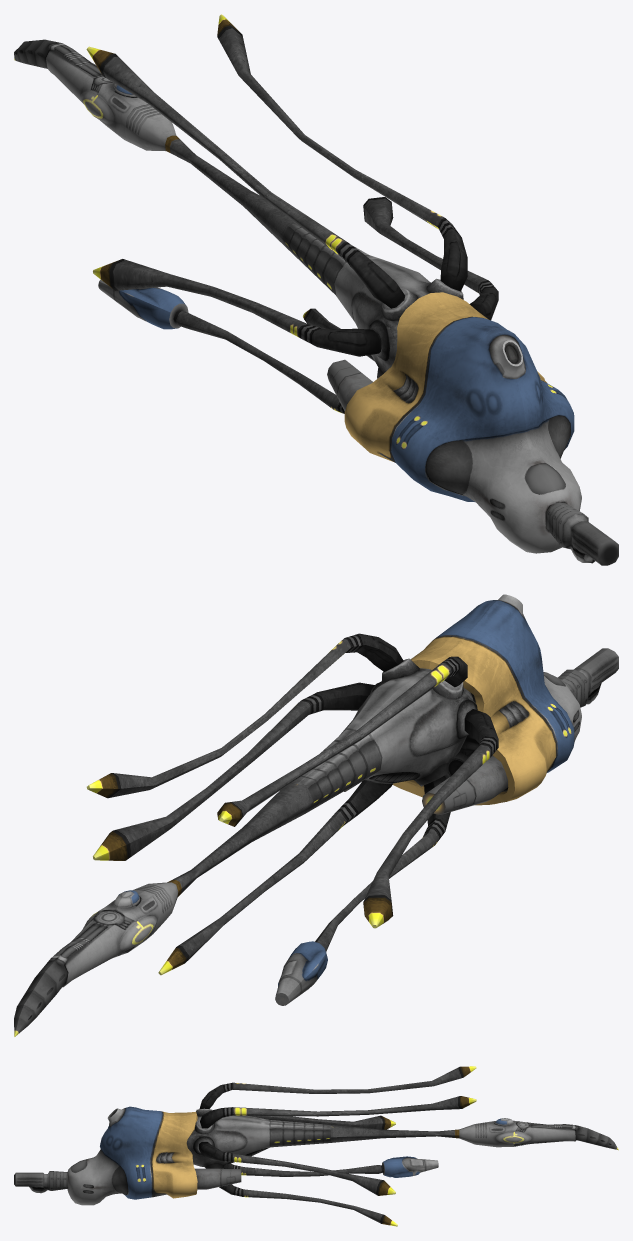
Rendered from 90621_lite.glb.
The picture shows the model from 3 angles, top to bottom: view 1: azimuth 30°, elevation 25°; view 2: azimuth 150°, elevation 25°; view 3: azimuth 270°, elevation 25°; orthographic projection. The views are drawn at different scales.
Parts seen in each view (by area): view 1: ship; view 2: ship; view 3: ship.
Boxes of the visible parts, bbox=[...] form: ship: bbox=[14, 14, 618, 565]; ship: bbox=[14, 594, 618, 1036]; ship: bbox=[14, 1066, 618, 1226].
Bounding box in the file's own units: 0.2117 × 0.1784 × 0.7699.
Materials: 1 (1 with a texture image).
